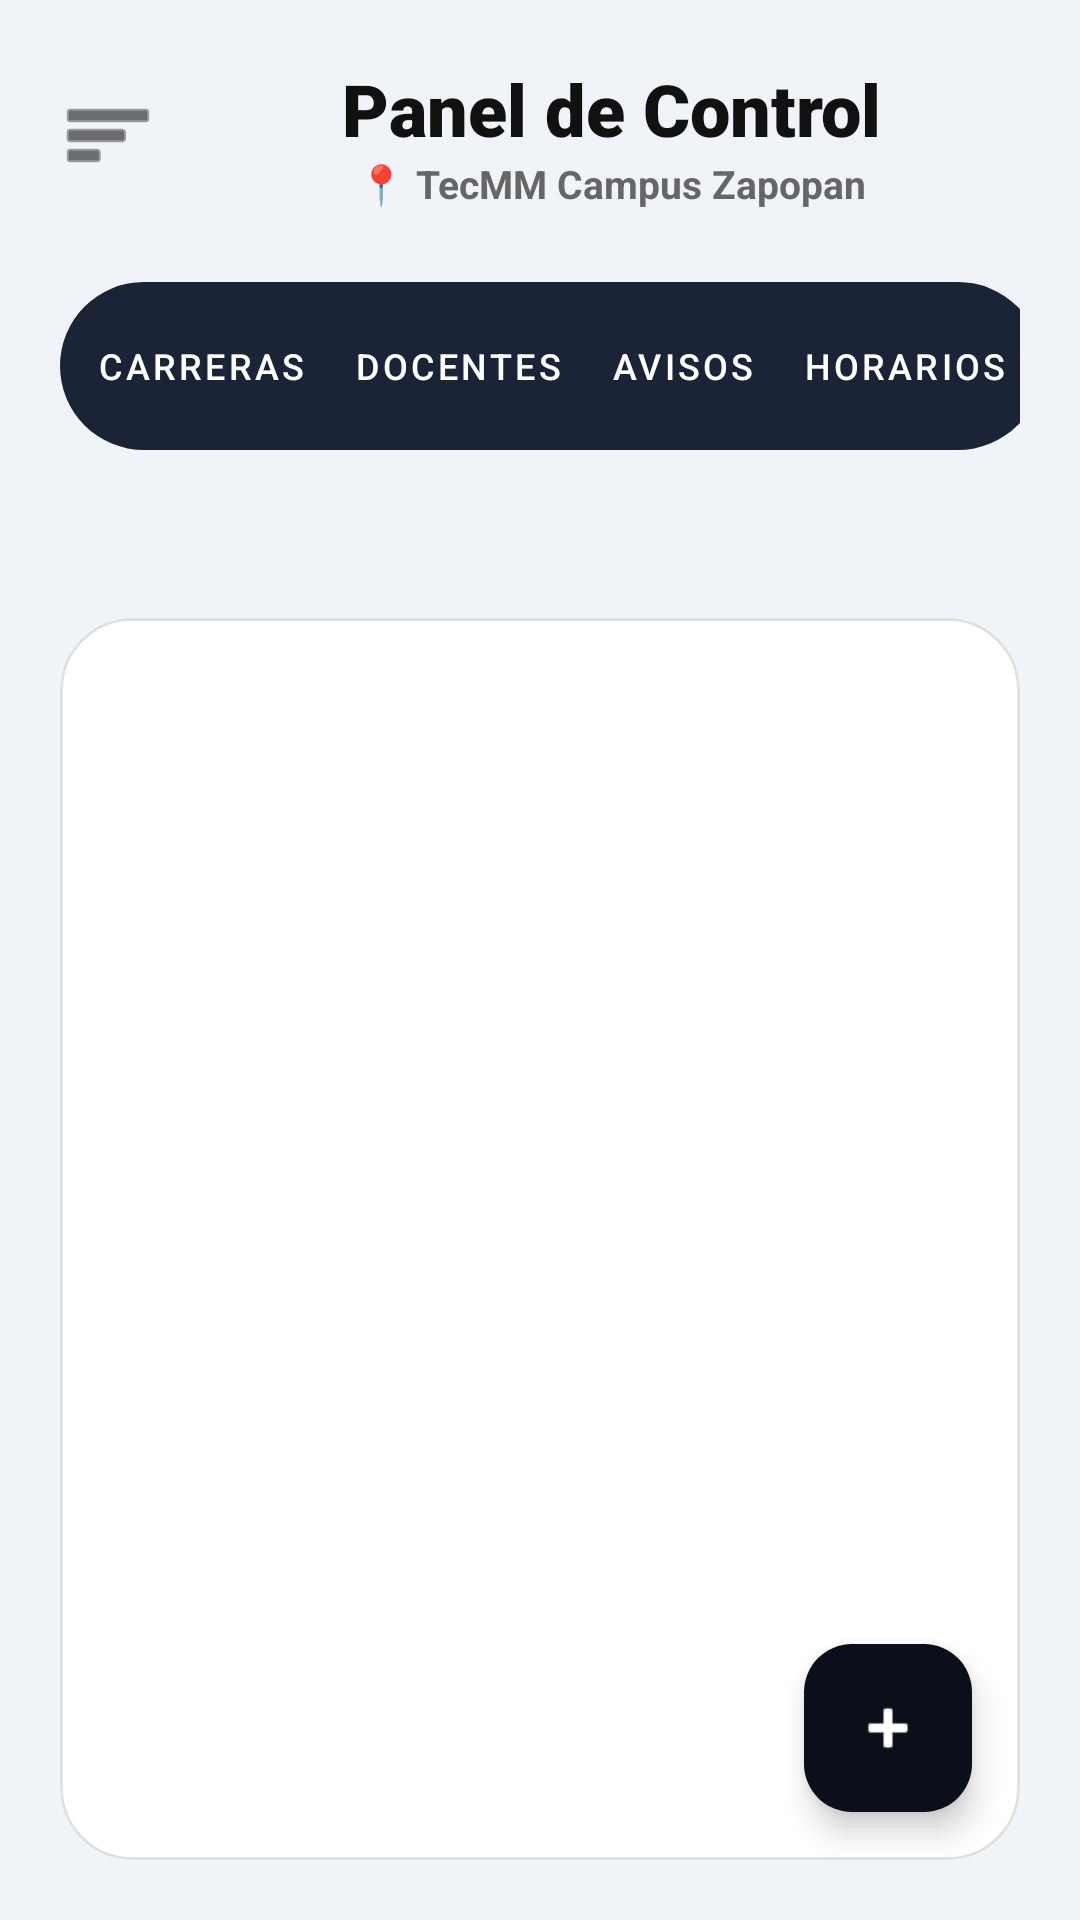

Where to tap for icons on this 1080 x 1920 app screen, as (x,y):
add: (888,1728)
sort by size: (108,135)
